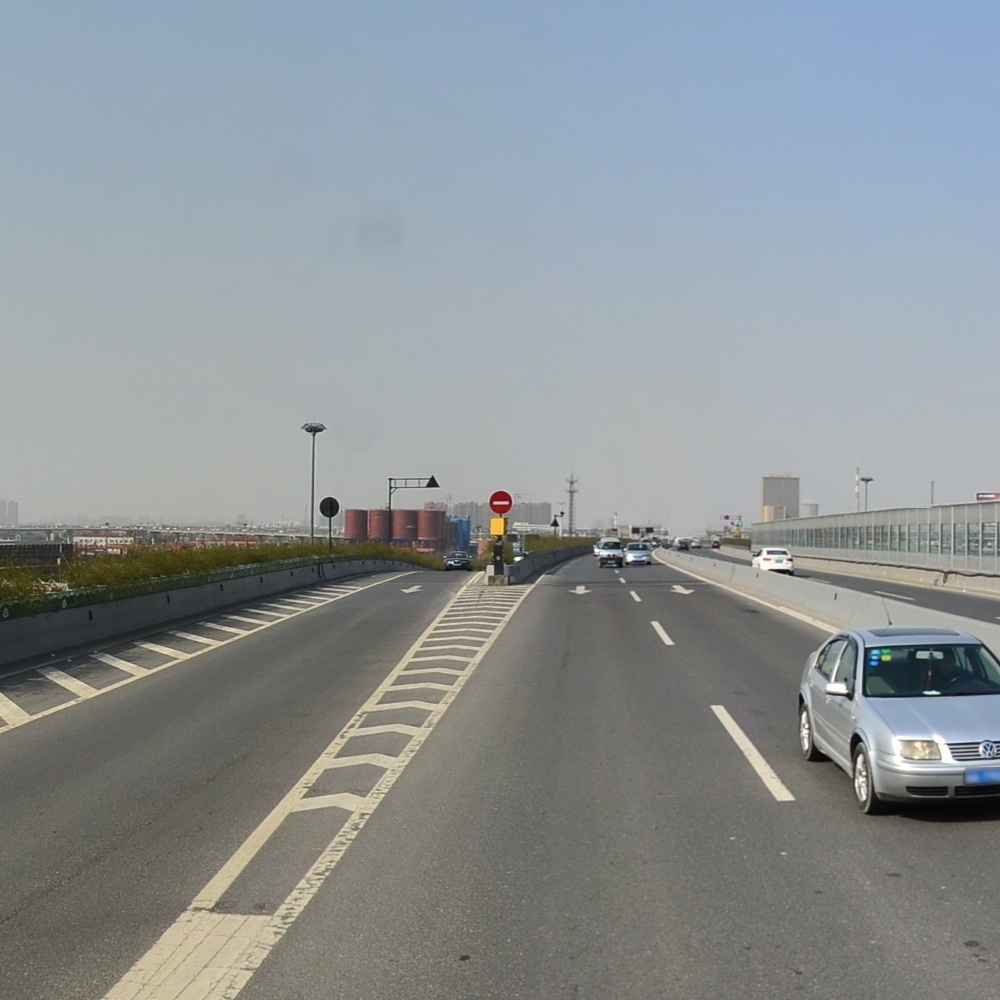traffic_sign: (488, 488, 513, 513)
